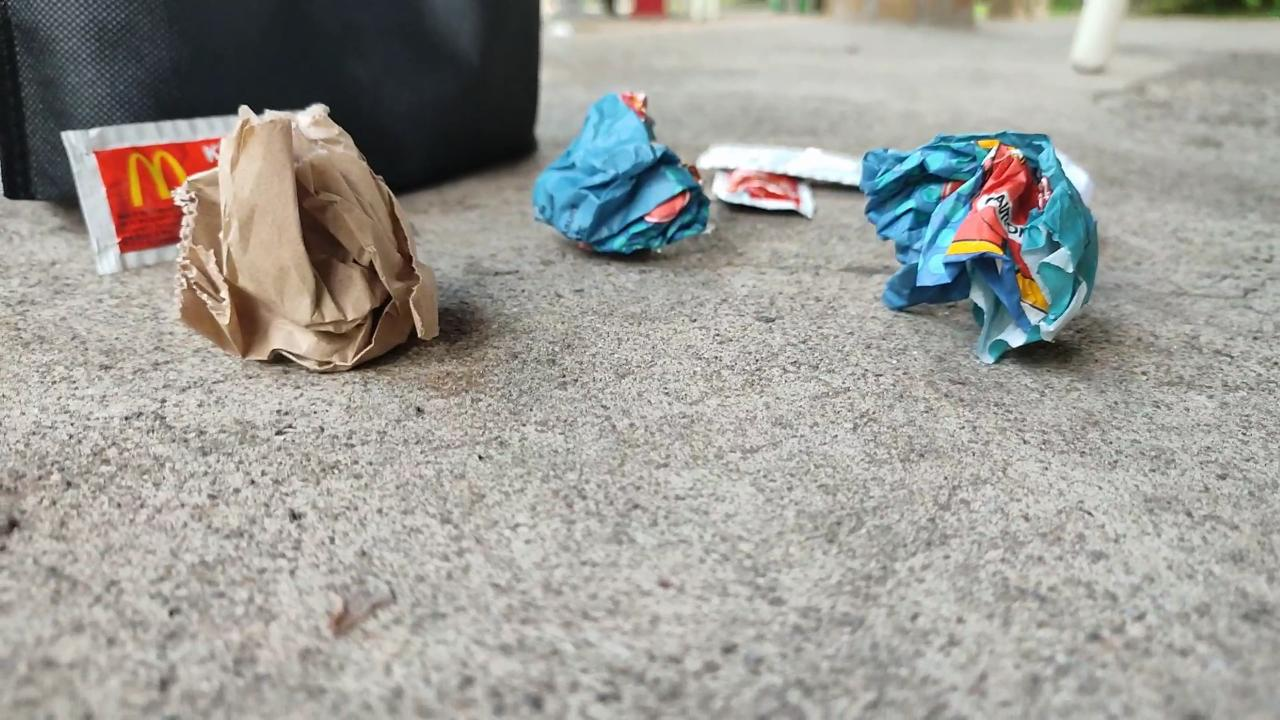Paper: (176, 105, 450, 371), (864, 115, 1103, 368), (511, 80, 720, 270)
